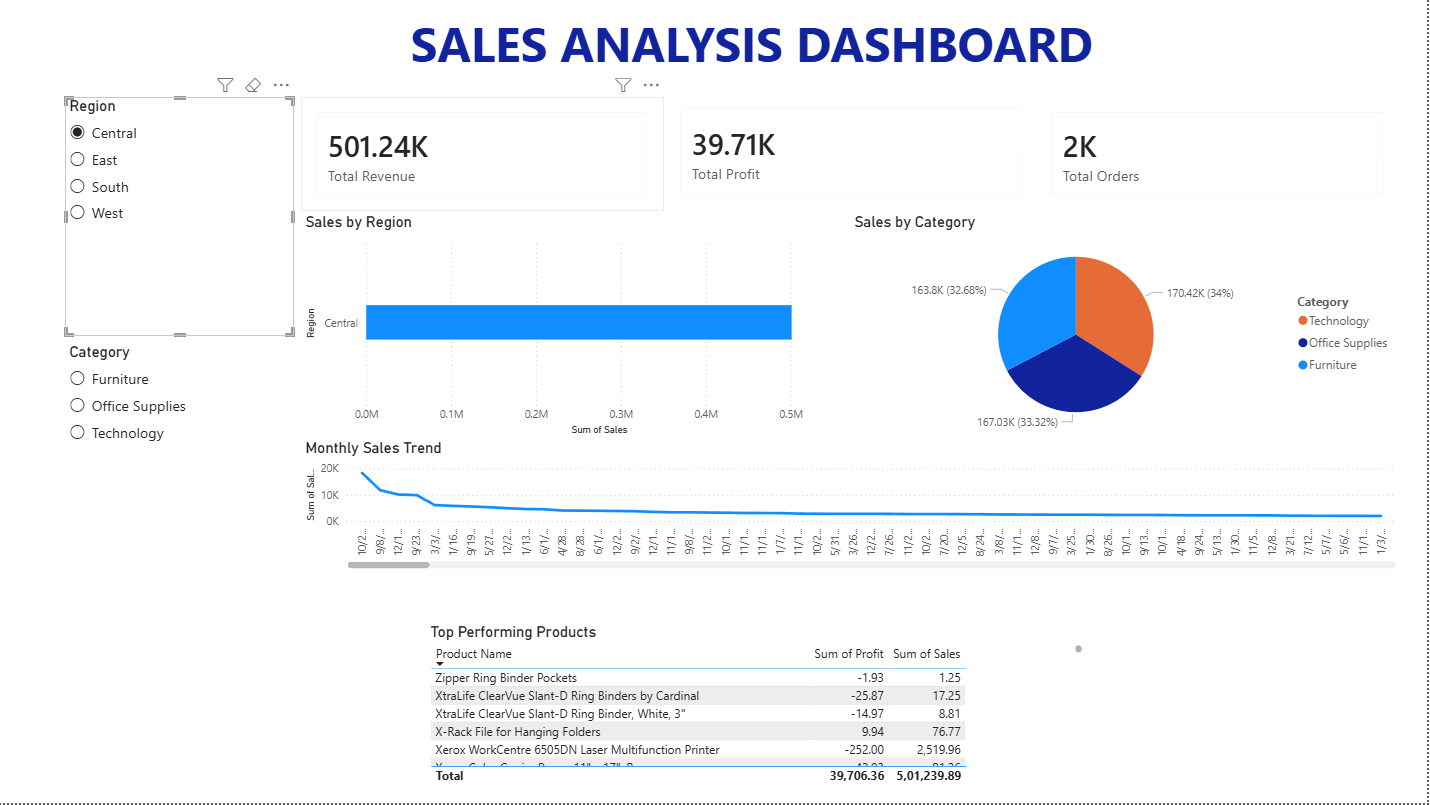

What the dashboard file says about the page in this screenshot:
{"tool":"powerbi","page":{"name":"Page 1","canvas":[1600,900],"ordinal":0},"visuals":[{"type":"cardVisual","fields":{"Data":["sales_data csv.Total Revenue"]},"box":[340.3,109.7,406.3,127.6],"z":0},{"type":"cardVisual","fields":{"Data":["sales_data csv.Total Profit"]},"box":[747.8,104.1,416.4,133.2],"z":1},{"type":"cardVisual","fields":{"Data":["sales_data csv.Total Orders"]},"box":[1163.1,109.7,407.5,127.6],"z":2},{"type":"barChart","title":"Sales by Region","fields":{"Category":["sales_data csv.Region"],"Y":["Sum(sales_data csv.Sales)"]},"box":[340.3,239.6,614.6,253],"z":3},{"type":"pieChart","title":"Sales by Category","fields":{"Category":["sales_data csv.Category"],"Y":["Sum(sales_data csv.Sales)"]},"box":[954.9,239.6,615.7,253],"z":4},{"type":"lineChart","title":"Monthly Sales Trend","fields":{"Category":["sales_data csv.Order Date"],"Y":["Sum(sales_data csv.Sales)"]},"box":[340.3,492.5,1230.2,150],"z":5},{"type":"tableEx","title":"Top Performing Products","fields":{"Values":["sales_data csv.Product Name","Sum(sales_data csv.Profit)","Sum(sales_data csv.Sales)"]},"box":[480.2,698.5,739.9,184.7],"z":6},{"type":"listSlicer","fields":{"Values":["sales_data csv.Region"]},"box":[76.1,109.7,256.3,267.5],"z":7},{"type":"listSlicer","fields":{"Values":["sales_data csv.Category"]},"box":[76.1,385.1,256.3,257.5],"z":8},{"type":"textbox","box":[457.8,7.8,804.9,80.6],"z":9}]}

Visuals, with their boxes in screenshot pixels (x1, y1, x2, y2), scaled from the page's 1600x900 canvas onto the 1430x805 screenshot:
cardVisual - sales_data csv.Total Revenue: rect(304, 98, 667, 212)
cardVisual - sales_data csv.Total Profit: rect(668, 93, 1041, 212)
cardVisual - sales_data csv.Total Orders: rect(1040, 98, 1404, 212)
"Sales by Region" barChart: rect(304, 214, 853, 441)
"Sales by Category" pieChart: rect(853, 214, 1404, 441)
"Monthly Sales Trend" lineChart: rect(304, 441, 1404, 575)
"Top Performing Products" tableEx: rect(429, 625, 1090, 790)
listSlicer - sales_data csv.Region: rect(68, 98, 297, 337)
listSlicer - sales_data csv.Category: rect(68, 344, 297, 575)
textbox: rect(409, 7, 1129, 79)
